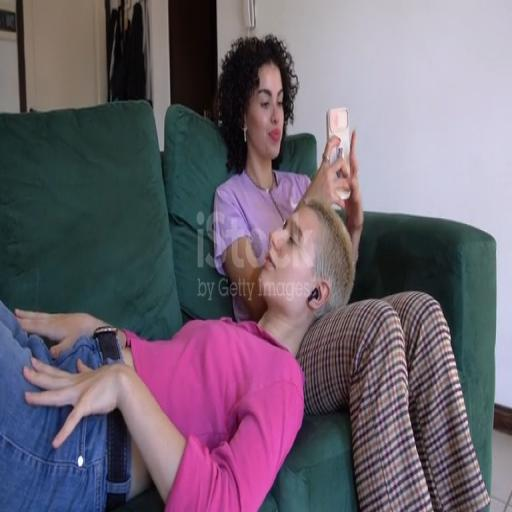earphone: (306, 282, 321, 308)
